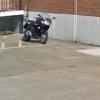Motorcycle: (19, 12, 59, 45)
